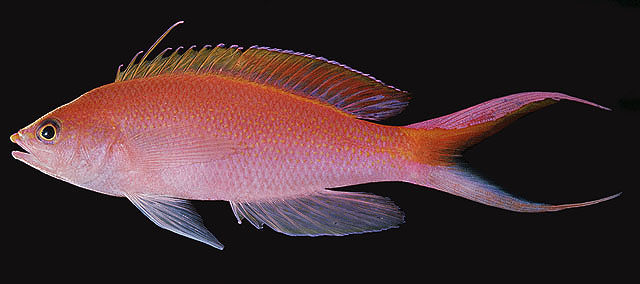fish: (9, 19, 623, 250)
